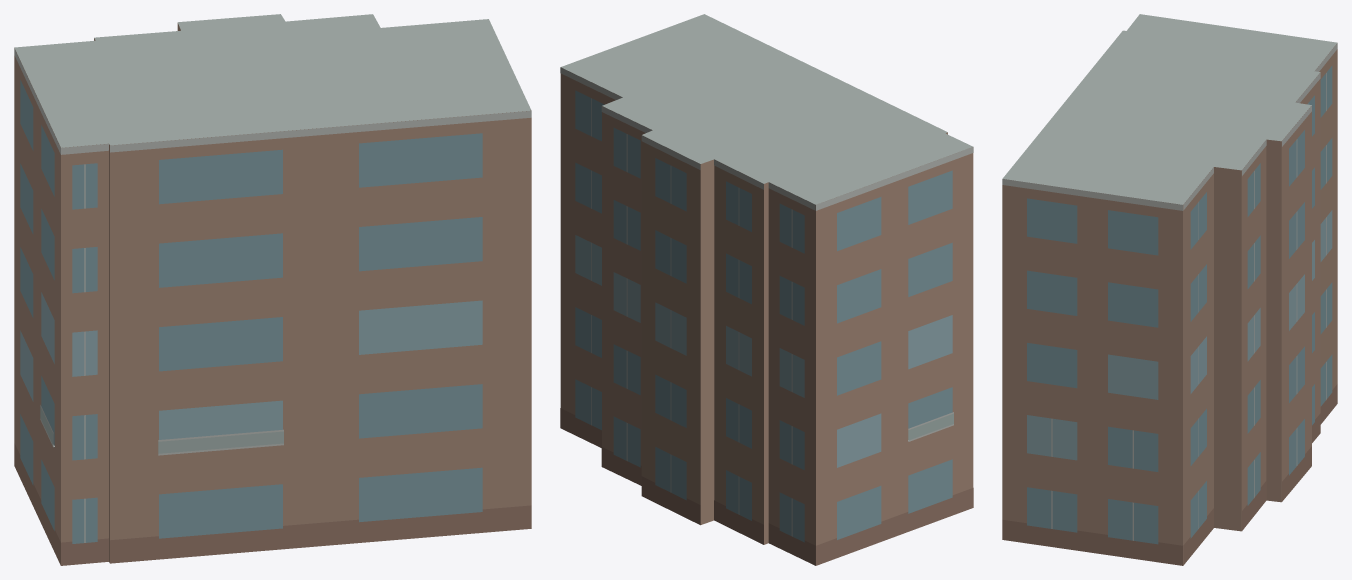
Rendered from survey-upis-32739931.glb.
3 renders of one model, left to right at view 1: azimuth 30°, elevation 25°; view 2: azimuth 150°, elevation 25°; view 3: azimuth 270°, elevation 25°, orthographic. The views are drawn at different scales.
Parts seen in each view (by area): view 1: survey-upis-32739931.tmp; view 2: survey-upis-32739931.tmp; view 3: survey-upis-32739931.tmp.
Boxes of the visible parts, bbox=[...] form: survey-upis-32739931.tmp: bbox=[14, 14, 531, 565]; survey-upis-32739931.tmp: bbox=[560, 14, 973, 565]; survey-upis-32739931.tmp: bbox=[1002, 14, 1337, 565].
Size of the model in its own units: 16.34 by 14.4 by 12.13.
